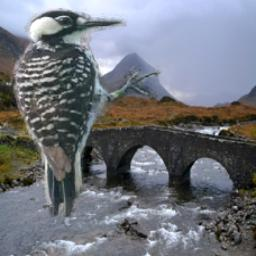Woodpecker: (8, 8, 164, 217)
